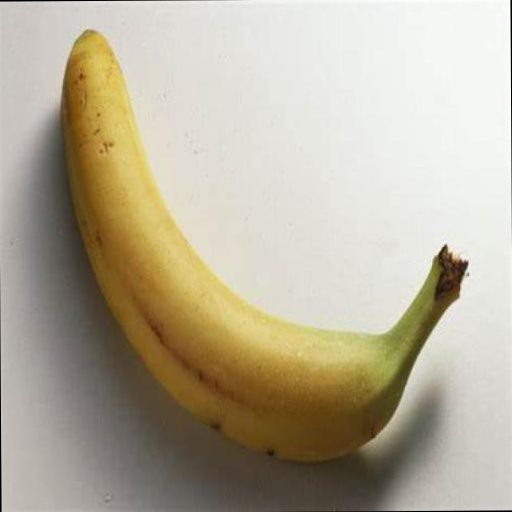fruit: (440, 112, 496, 410)
